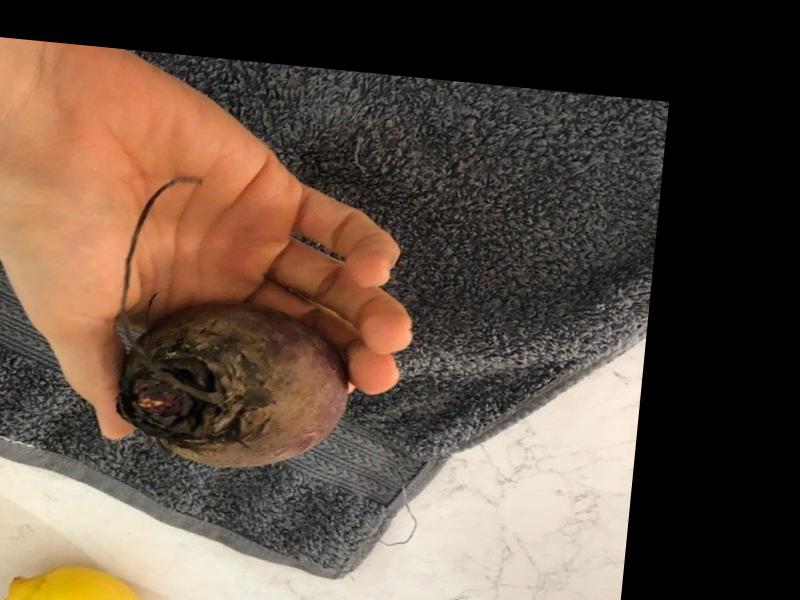Beet: (112, 172, 370, 479)
